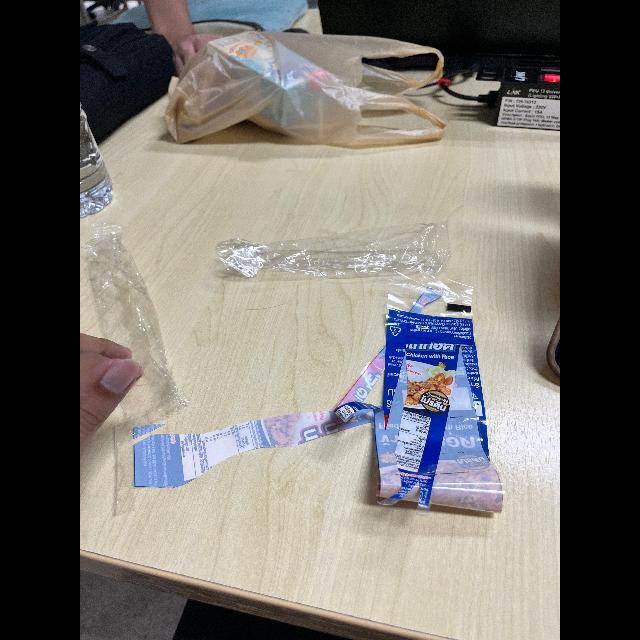scrap_plastic: (359, 269, 508, 526), (80, 231, 200, 419), (208, 210, 466, 286)
